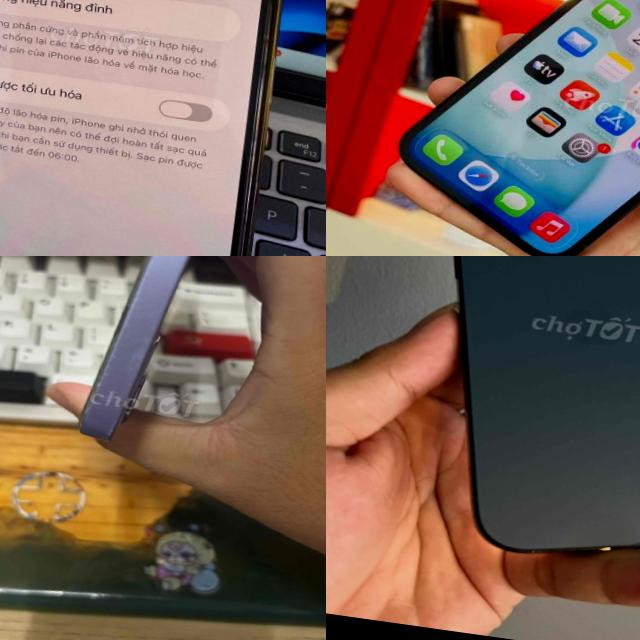scratch: (83, 256, 161, 435)
